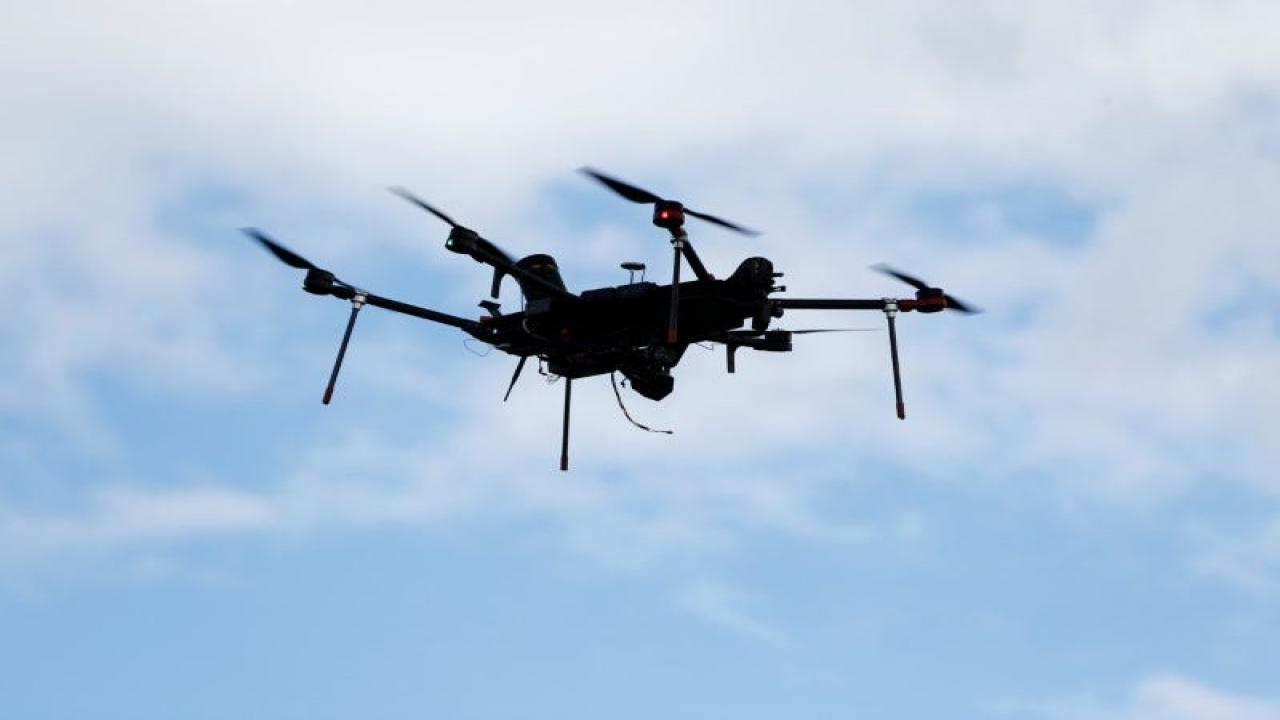Drone: (229, 154, 988, 478)
